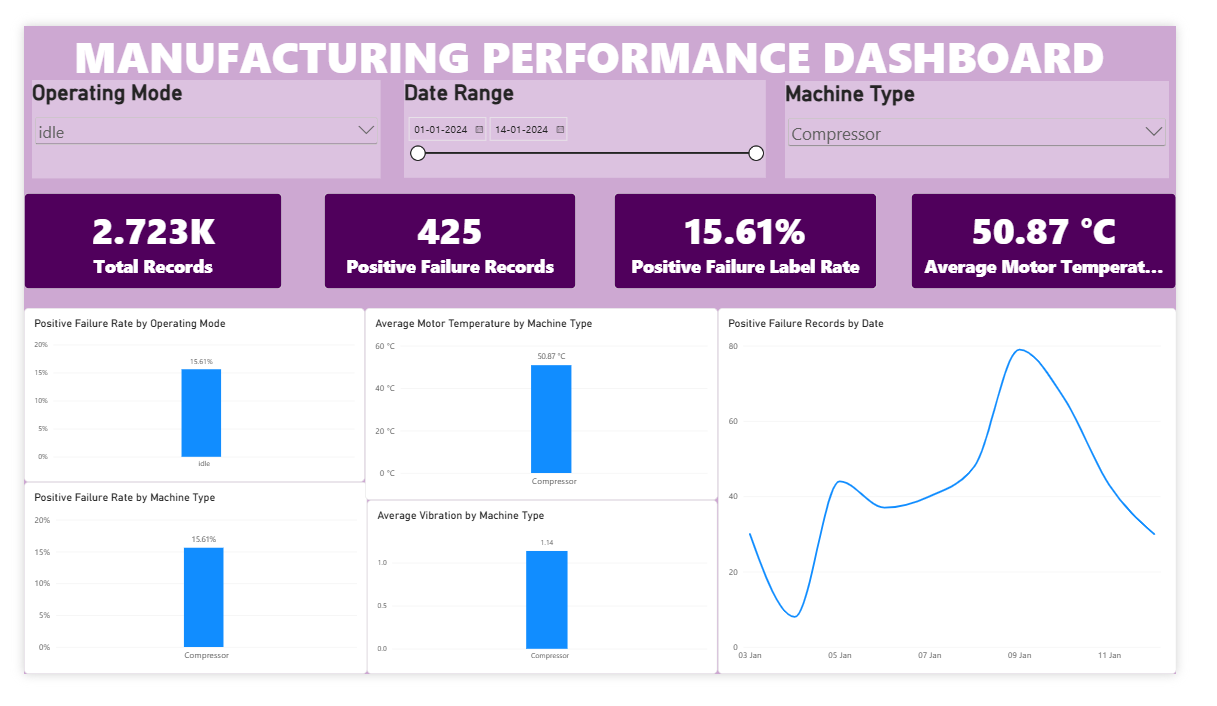

The dashboard page shown, as its layout file describes it:
{"tool":"powerbi","page":{"name":"Page 1","canvas":[1920,1080],"ordinal":0},"visuals":[{"type":"textbox","box":[84,0,1836.4,179.5],"z":7},{"type":"card","fields":{"Values":["manufacturing_cleaned.Total Records"]},"box":[0,278,430,160],"z":8},{"type":"card","fields":{"Values":["manufacturing_cleaned.Positive Failure Records"]},"box":[500,278,420,160],"z":9},{"type":"card","fields":{"Values":["manufacturing_cleaned.Positive Failure Label Rate"]},"box":[984,278,438,160],"z":10},{"type":"card","fields":{"Values":["manufacturing_cleaned.Average Motor Temperature"]},"box":[1478,278,442,160],"z":11},{"type":"clusteredColumnChart","title":"Positive Failure Rate by Machine Type","fields":{"Category":["manufacturing_cleaned.machine_type"],"Y":["manufacturing_cleaned.Positive Failure Label Rate"]},"box":[0,760,572,320],"z":12},{"type":"clusteredColumnChart","title":"Positive Failure Rate by Operating Mode","fields":{"Category":["manufacturing_cleaned.operating_mode"],"Y":["manufacturing_cleaned.Positive Failure Label Rate"]},"box":[0,470,568,290],"z":13},{"type":"clusteredColumnChart","title":"Average Motor Temperature by Machine Type","fields":{"Category":["manufacturing_cleaned.machine_type"],"Y":["manufacturing_cleaned.Average Motor Temperature"]},"box":[568,470,588,320],"z":14},{"type":"clusteredColumnChart","title":"Average Vibration by Machine Type","fields":{"Category":["manufacturing_cleaned.machine_type"],"Y":["manufacturing_cleaned.Average Vibration"]},"box":[572,790,584,290],"z":15},{"type":"lineChart","title":"Positive Failure Records by Date","fields":{"Category":["manufacturing_cleaned.timestamp.Variation.Date Hierarchy.Year","manufacturing_cleaned.timestamp.Variation.Date Hierarchy.Quarter","manufacturing_cleaned.timestamp.Variation.Date Hierarchy.Month","manufacturing_cleaned.timestamp.Variation.Date Hierarchy.Day"],"Y":["manufacturing_cleaned.Positive Failure Records"]},"box":[1156,470,764,610],"z":16},{"type":"slicer","title":"Machine Type","fields":{"Values":["manufacturing_cleaned.machine_type"]},"box":[1268.3,91.7,640,161.7],"z":17},{"type":"slicer","title":"Date Range","fields":{"Values":["manufacturing_cleaned.timestamp"]},"box":[633.3,90,603.3,163.3],"z":18},{"type":"slicer","title":"Operating Mode","fields":{"Values":["manufacturing_cleaned.operating_mode"]},"box":[13.8,90,581.2,163.8],"z":19}]}

Visuals, with their boxes on the page's 1920x1080 design canvas (x1, y1, x2, y2). These are canvas units, not pixel positions in the 1217x706 screenshot, which may show the page scaled, cropped or inside an application window:
textbox: bbox=(84, 0, 1920, 180)
card - manufacturing_cleaned.Total Records: bbox=(0, 278, 430, 438)
card - manufacturing_cleaned.Positive Failure Records: bbox=(500, 278, 920, 438)
card - manufacturing_cleaned.Positive Failure Label Rate: bbox=(984, 278, 1422, 438)
card - manufacturing_cleaned.Average Motor Temperature: bbox=(1478, 278, 1920, 438)
"Positive Failure Rate by Machine Type" clusteredColumnChart: bbox=(0, 760, 572, 1080)
"Positive Failure Rate by Operating Mode" clusteredColumnChart: bbox=(0, 470, 568, 760)
"Average Motor Temperature by Machine Type" clusteredColumnChart: bbox=(568, 470, 1156, 790)
"Average Vibration by Machine Type" clusteredColumnChart: bbox=(572, 790, 1156, 1080)
"Positive Failure Records by Date" lineChart: bbox=(1156, 470, 1920, 1080)
"Machine Type" slicer: bbox=(1268, 92, 1908, 253)
"Date Range" slicer: bbox=(633, 90, 1237, 253)
"Operating Mode" slicer: bbox=(14, 90, 595, 254)
